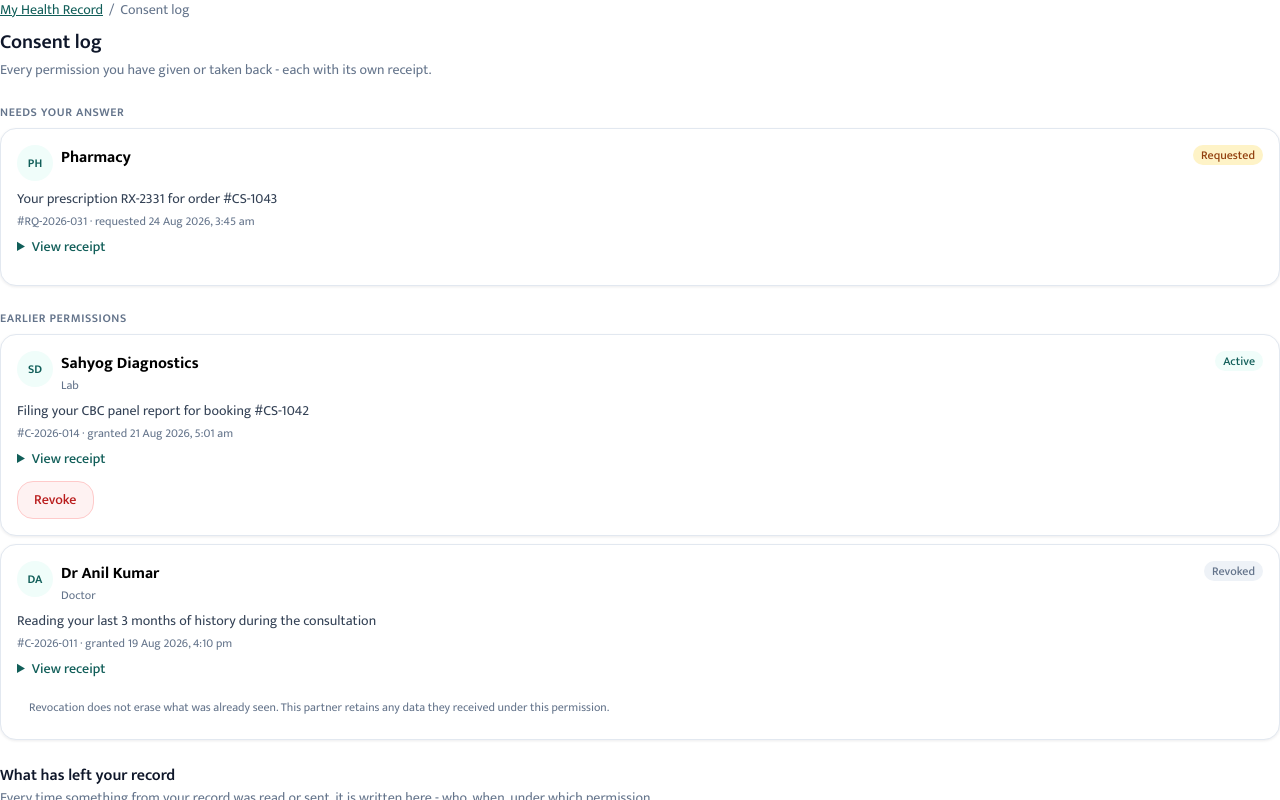
Test: Inline-confirm revoke flow › cancel closes the sheet without revoking
Check: the element with test id "pending-section" is shown, box [0,104,1279,286]
Click the button with test id "revoke-1" at (55, 500), box [17,481,94,519]
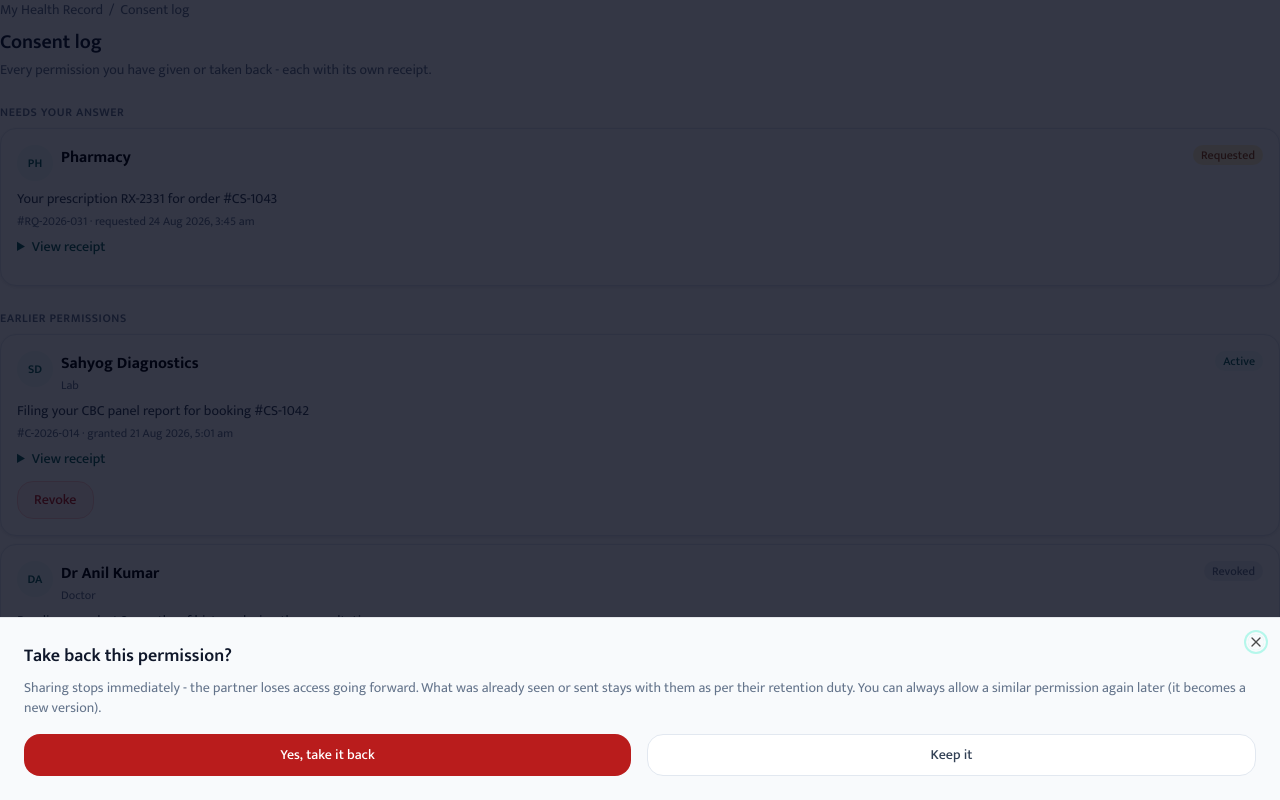
Check: the dialog with test id "revoke-sheet" is shown, box [0,617,1279,799]
Click the button with test id "revoke-cancel" at (952, 755), box [647,734,1256,776]
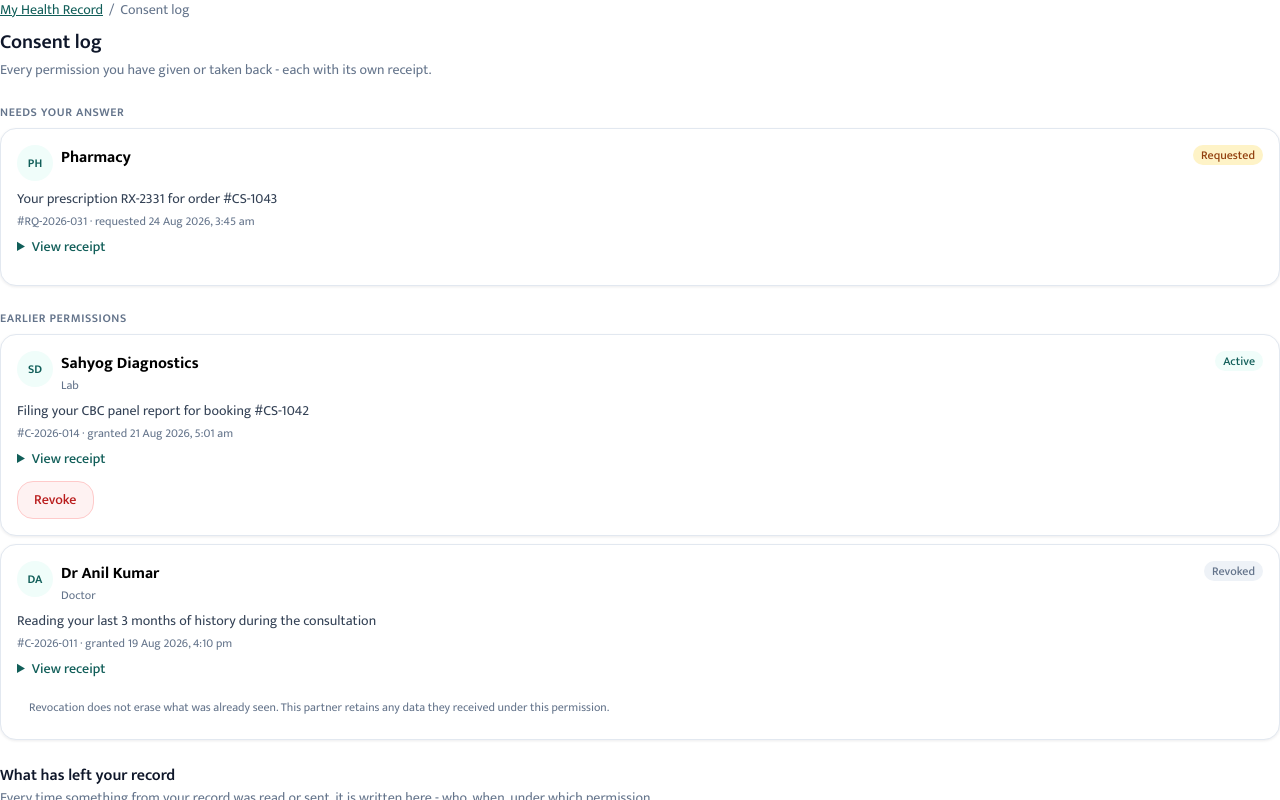
Check: the dialog with test id "revoke-sheet" is gone
